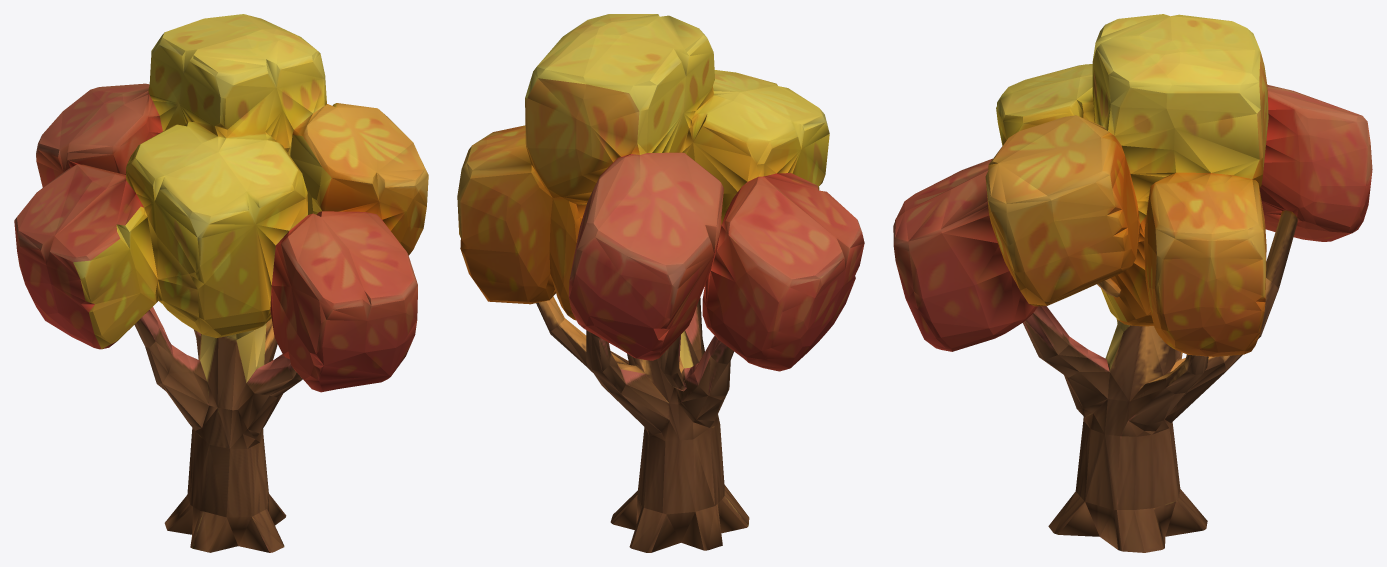
Rendered from autumn_tree.glb.
The picture shows the model from 3 angles, left to right: view 1: azimuth 30°, elevation 25°; view 2: azimuth 150°, elevation 25°; view 3: azimuth 270°, elevation 25°; orthographic projection. The views are drawn at different scales.
Visible parts, largest first — view 1: material; view 2: material; view 3: material.
Part boxes in pixels (<box>): material: <box>14,14,428,552</box>; material: <box>457,14,864,552</box>; material: <box>893,14,1372,552</box>.
Bounding box in the file's own units: 16.5 × 22 × 19.02.
1 material, 1 textured.
